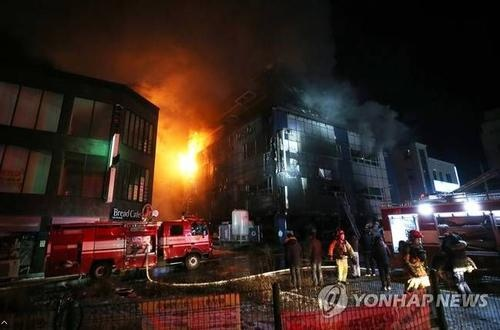fire: (173, 134, 206, 181)
